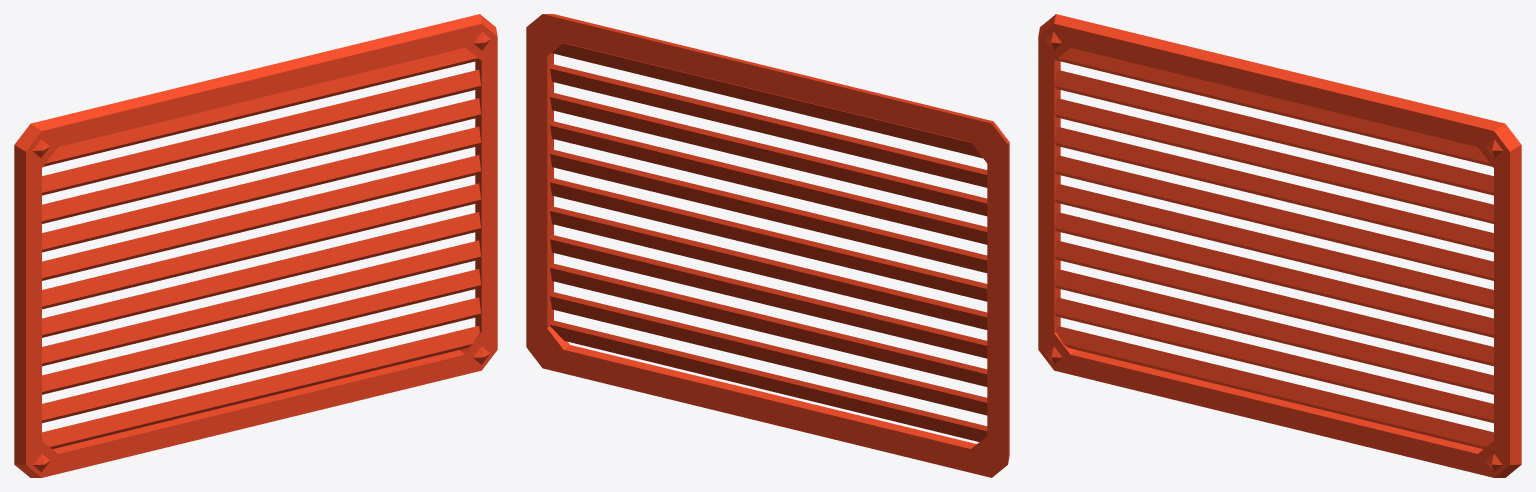
Rendered from SM_Vent_Door_A_City.fbx.
3 renders of one model, left to right at view 1: azimuth 30°, elevation 25°; view 2: azimuth 150°, elevation 25°; view 3: azimuth 330°, elevation 25°, orthographic.
Parts seen in each view (by area): view 1: SM_Vent_Door_A_City; view 2: SM_Vent_Door_A_City; view 3: SM_Vent_Door_A_City.
Boxes of the visible parts, bbox=[...] form: SM_Vent_Door_A_City: bbox=[14, 14, 497, 477]; SM_Vent_Door_A_City: bbox=[526, 14, 1009, 477]; SM_Vent_Door_A_City: bbox=[1038, 14, 1521, 477].
Size of the model in its own units: 0.8039 by 0.565 by 0.0262.
